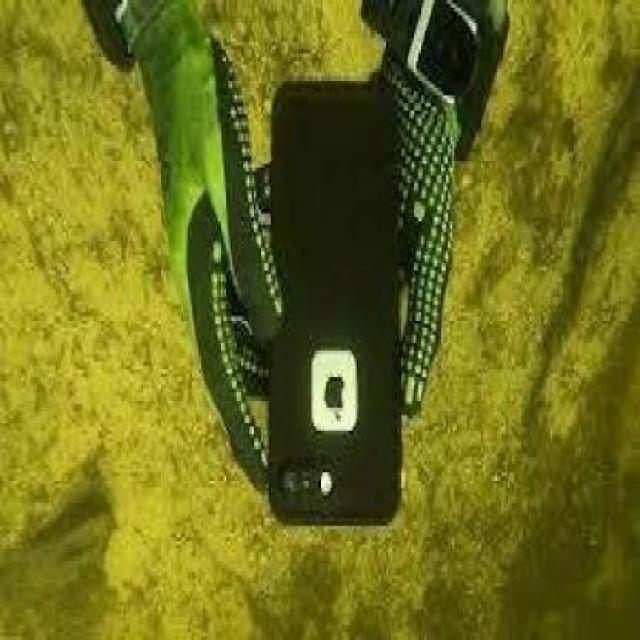cellphone: (271, 84, 398, 525)
